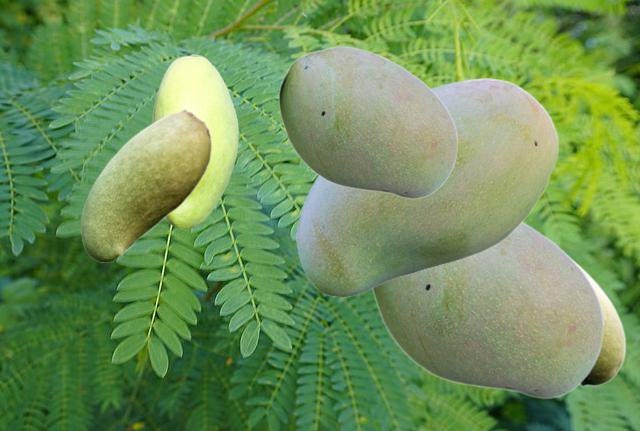green_mango: (296, 78, 558, 295), (371, 222, 603, 398), (278, 45, 457, 198), (80, 108, 211, 261), (152, 54, 237, 228), (573, 257, 625, 386)
